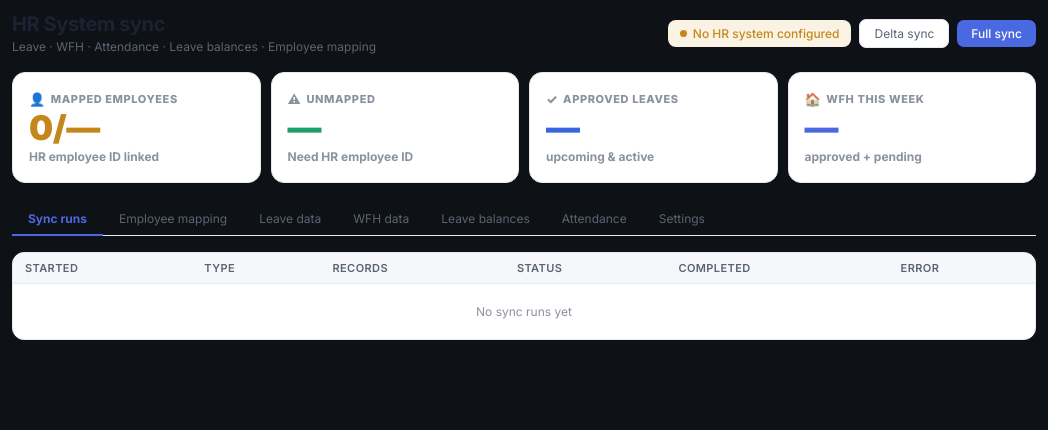
Test: employee mapping tab › clicking Map opens inline input
What coordinates should you click on to do the following:
click the button "Employee mapping"
I would click on:
 (173, 220)
Its box is [103,203,243,236].
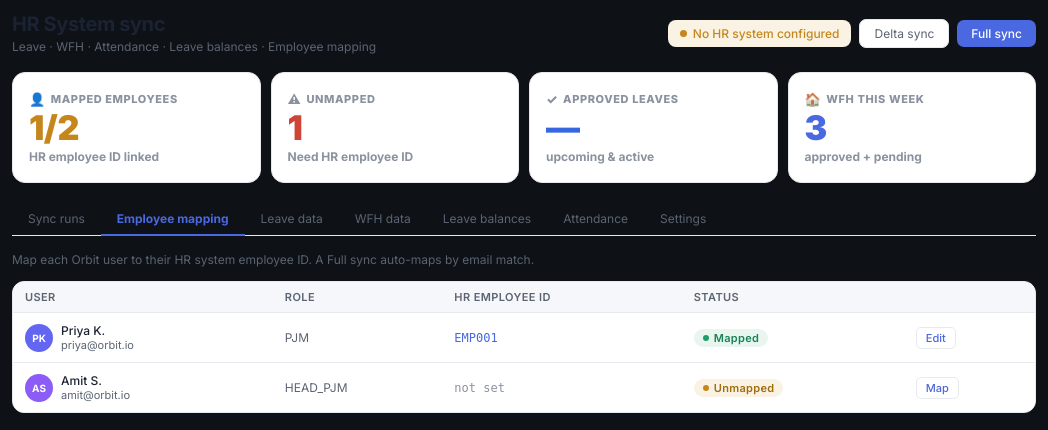
Expected: the button "Map" is shown
What coordinates should you click on to do the following:
click the button "Map"
I would click on:
 (937, 388)
Its box is [916,376,959,398].
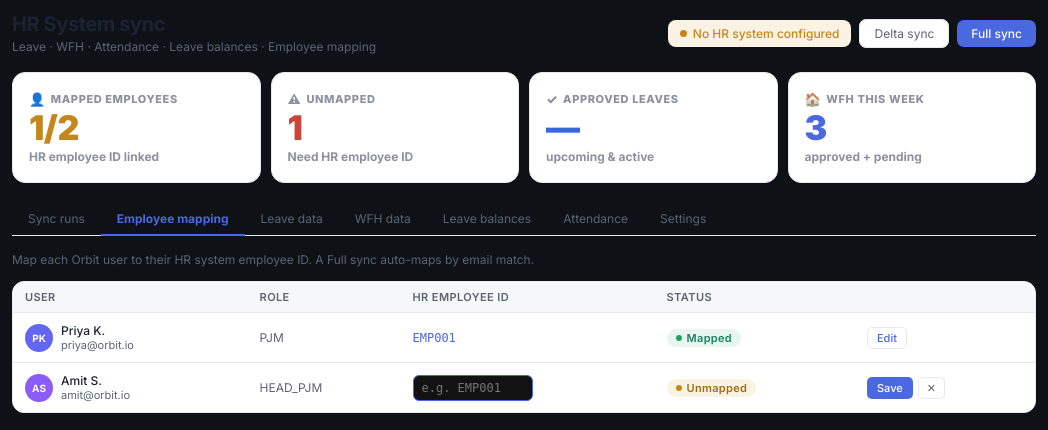
Expected: the field with placeholder "e.g. EMP001" is shown, [412,374,532,400]
